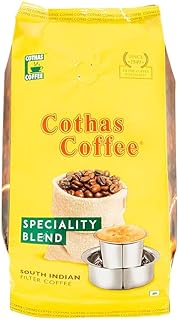Coffee: (3, 1, 178, 320)
